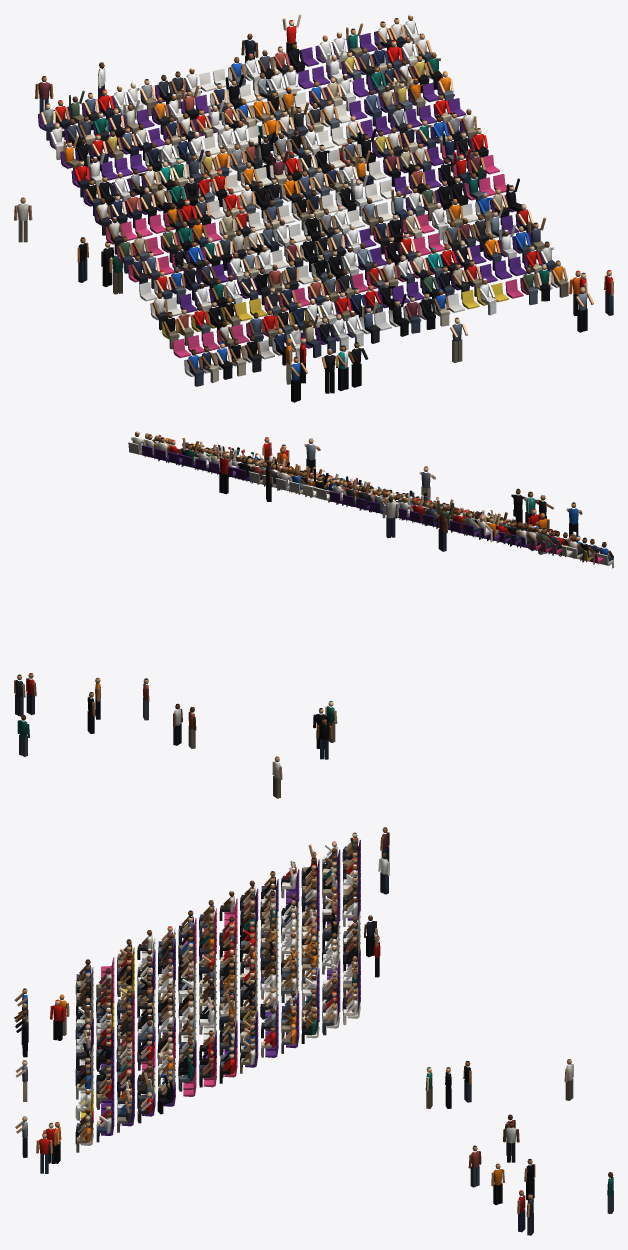
Rendered from stand_main_kit_1.glb.
3 renders of one model, top to bottom at view 1: azimuth 30°, elevation 25°; view 2: azimuth 150°, elevation 25°; view 3: azimuth 270°, elevation 25°, orthographic. The views are drawn at different scales.
Visible parts, largest first — view 1: kit_1; view 2: kit_1; view 3: kit_1.
Boxes of the visible parts, x1,y1,x2,y2 form: kit_1: (14,14,613,402); kit_1: (14,431,613,798); kit_1: (14,827,613,1235).
Size of the model in its own units: 16.9 by 10.3 by 23.37.
